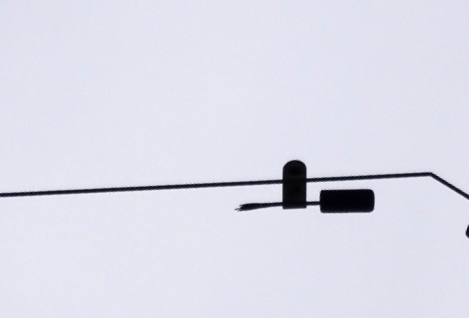damper_defect: (230, 157, 376, 217)
